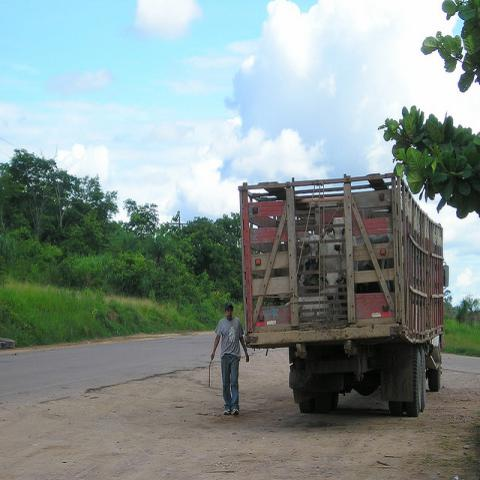truck: (238, 172, 450, 418)
